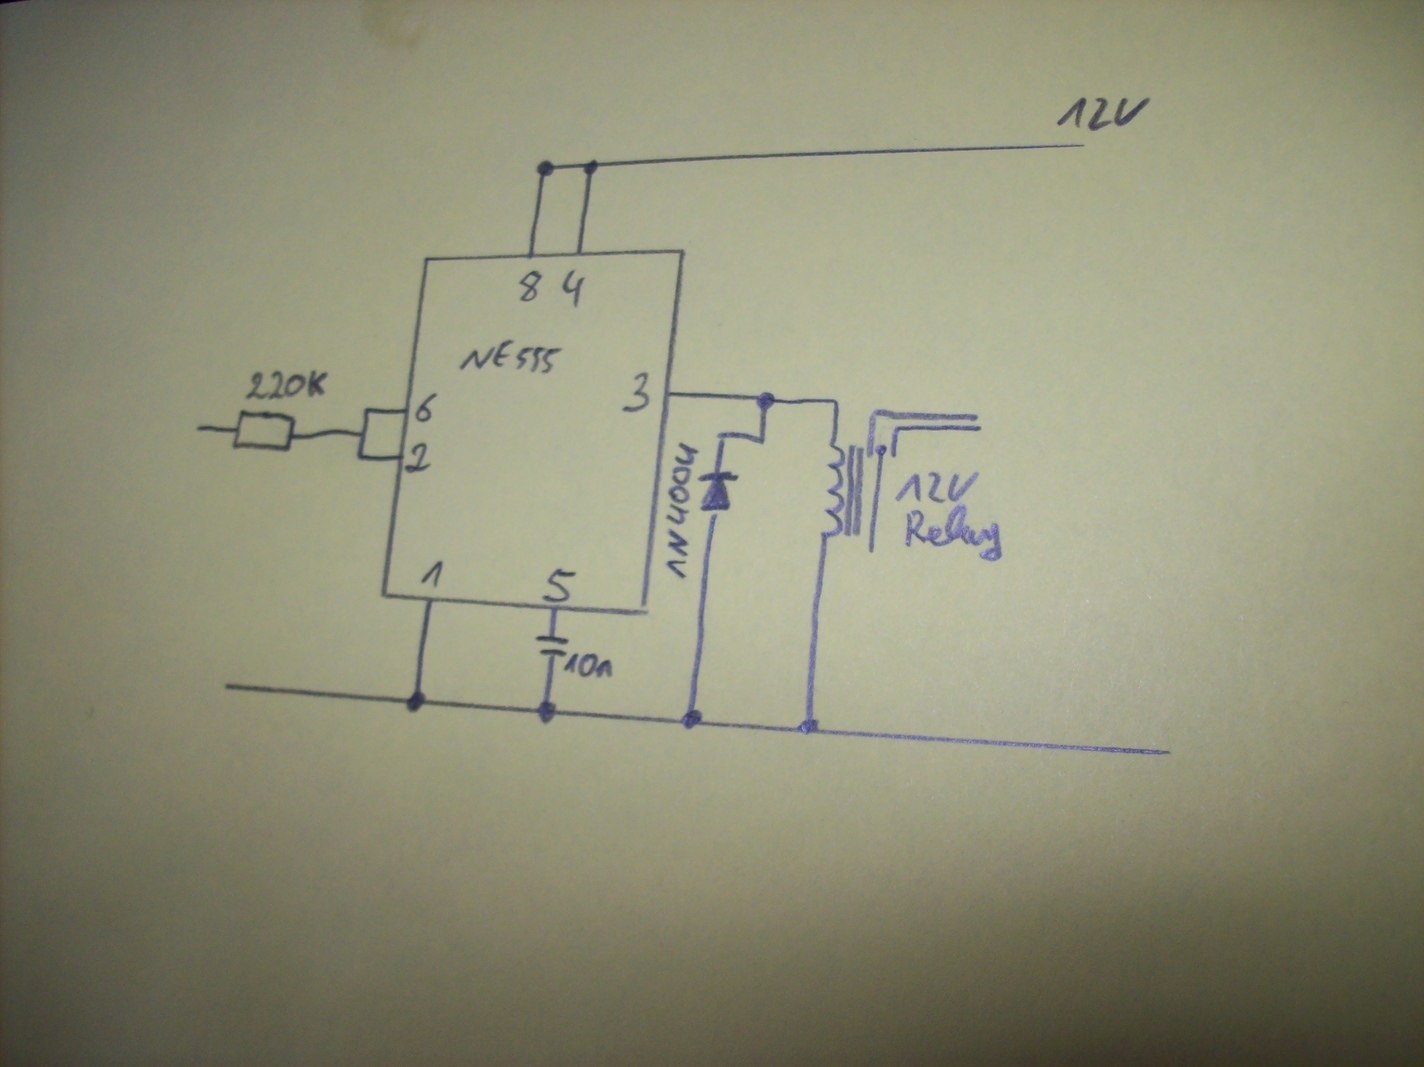capacitor.unpolarized: (534, 631, 573, 659)
diode: (695, 468, 739, 518)
integrated_cricuit.ne555: (376, 244, 689, 620)
junction: (533, 698, 560, 725), (403, 689, 429, 715), (678, 708, 704, 732), (795, 717, 823, 739), (754, 390, 778, 412), (534, 158, 555, 177), (581, 158, 601, 176), (753, 432, 769, 449), (713, 429, 732, 444), (868, 406, 883, 421), (360, 403, 374, 417), (828, 395, 843, 408), (890, 423, 904, 436), (353, 449, 366, 463), (355, 428, 370, 439)
relay: (817, 440, 899, 546)
resistor: (229, 407, 299, 456)
terminal: (218, 679, 240, 694), (1074, 138, 1091, 154), (1158, 744, 1176, 759), (863, 544, 881, 557), (192, 421, 206, 434), (968, 411, 981, 423), (971, 423, 984, 433)
text: (903, 502, 1004, 564), (666, 440, 699, 579), (456, 337, 564, 375), (1055, 95, 1151, 132), (894, 470, 981, 505), (244, 368, 331, 401), (620, 369, 652, 416), (562, 652, 614, 680), (540, 566, 577, 604), (560, 268, 588, 310), (403, 440, 432, 474), (516, 268, 543, 303), (419, 559, 446, 590), (415, 391, 439, 423)
